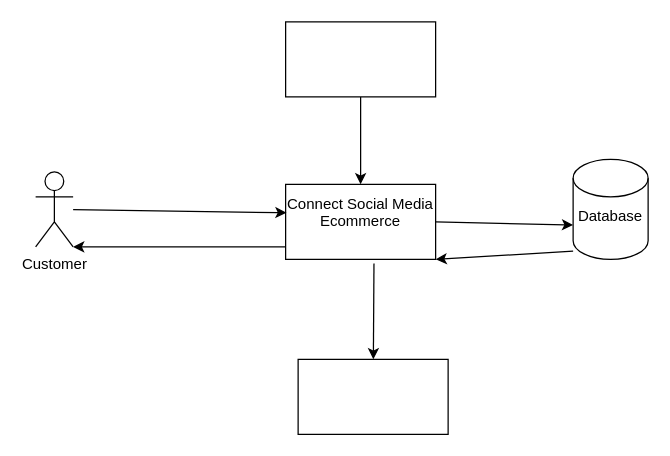
This 670x456 diagram has some shape labels left out. The shapes that lost their labels are listed below. From the top down, each one's centre as x and y in pixels, then its label:
At (360,59): "Admin".
At (372,396): "Vendor".
